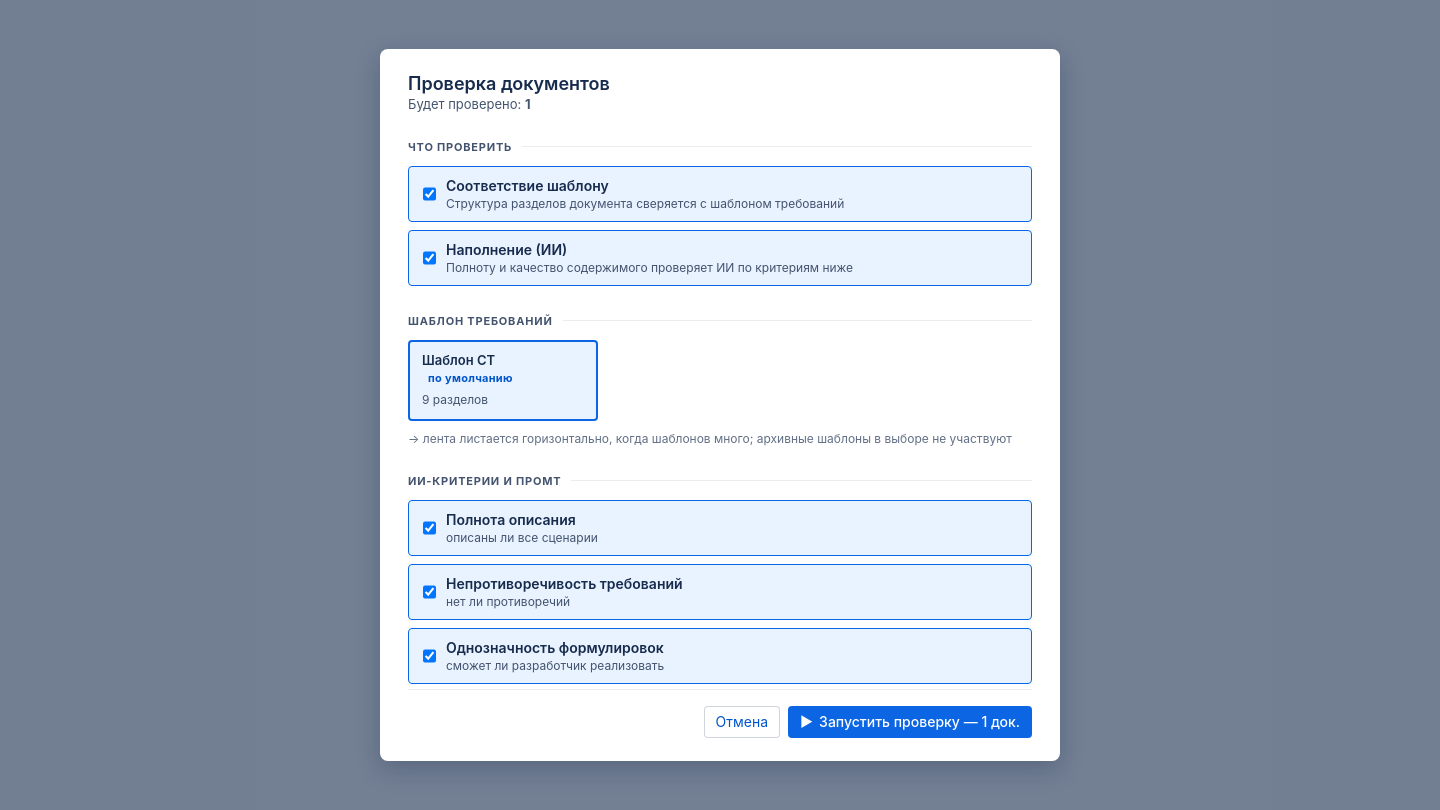
Test case: ValidationDialog: ИИ-критерии и замок промта › все ИИ-критерии сняты — запуск заблокирован с подсказкой
Step 1. Click the checkbox labelled "Полнота описания описаны ли все сценарии" → (430, 528), box [423,511,436,545]
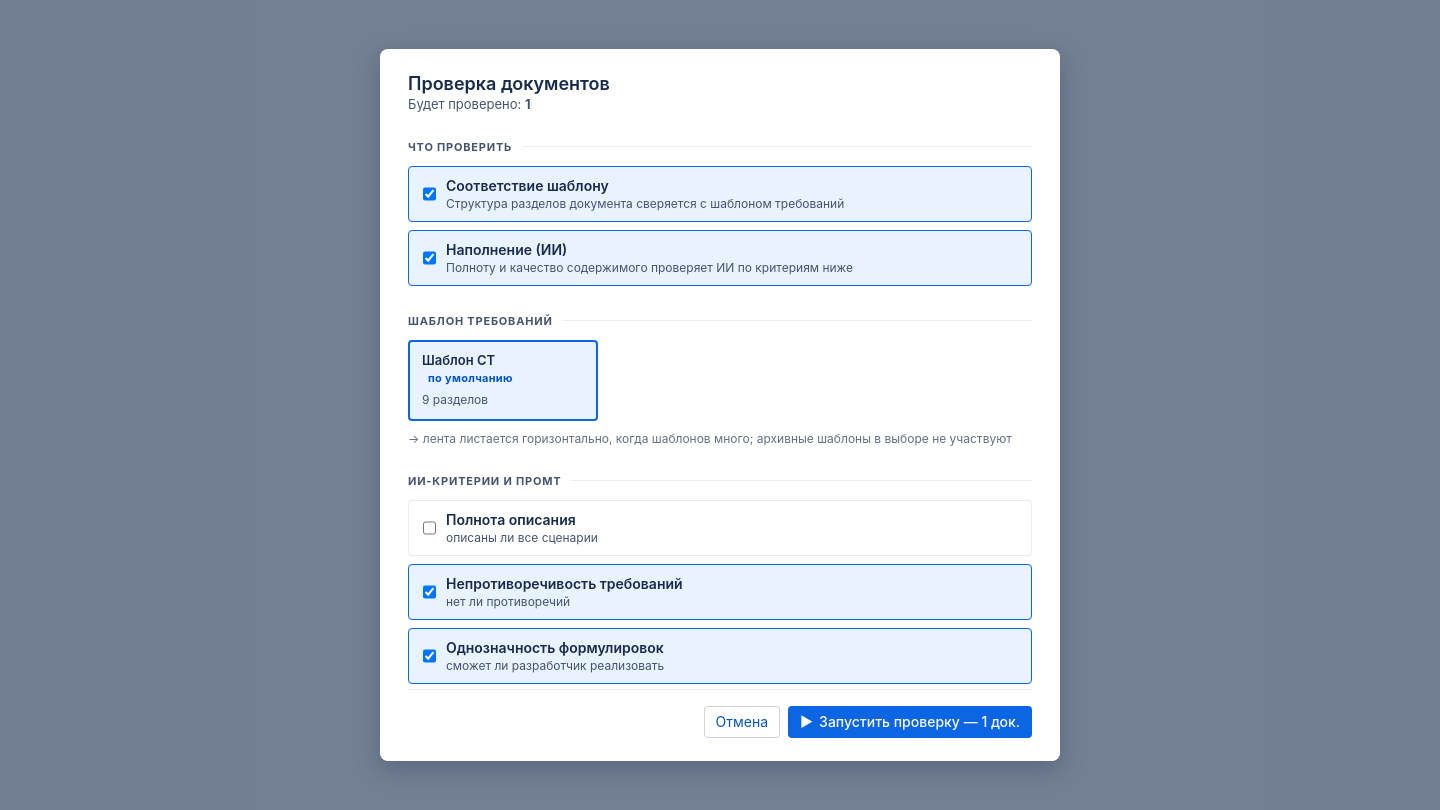
Step 2. Click the checkbox labelled "Непротиворечивость требований нет ли противоречий" → (430, 592), box [423,575,436,609]
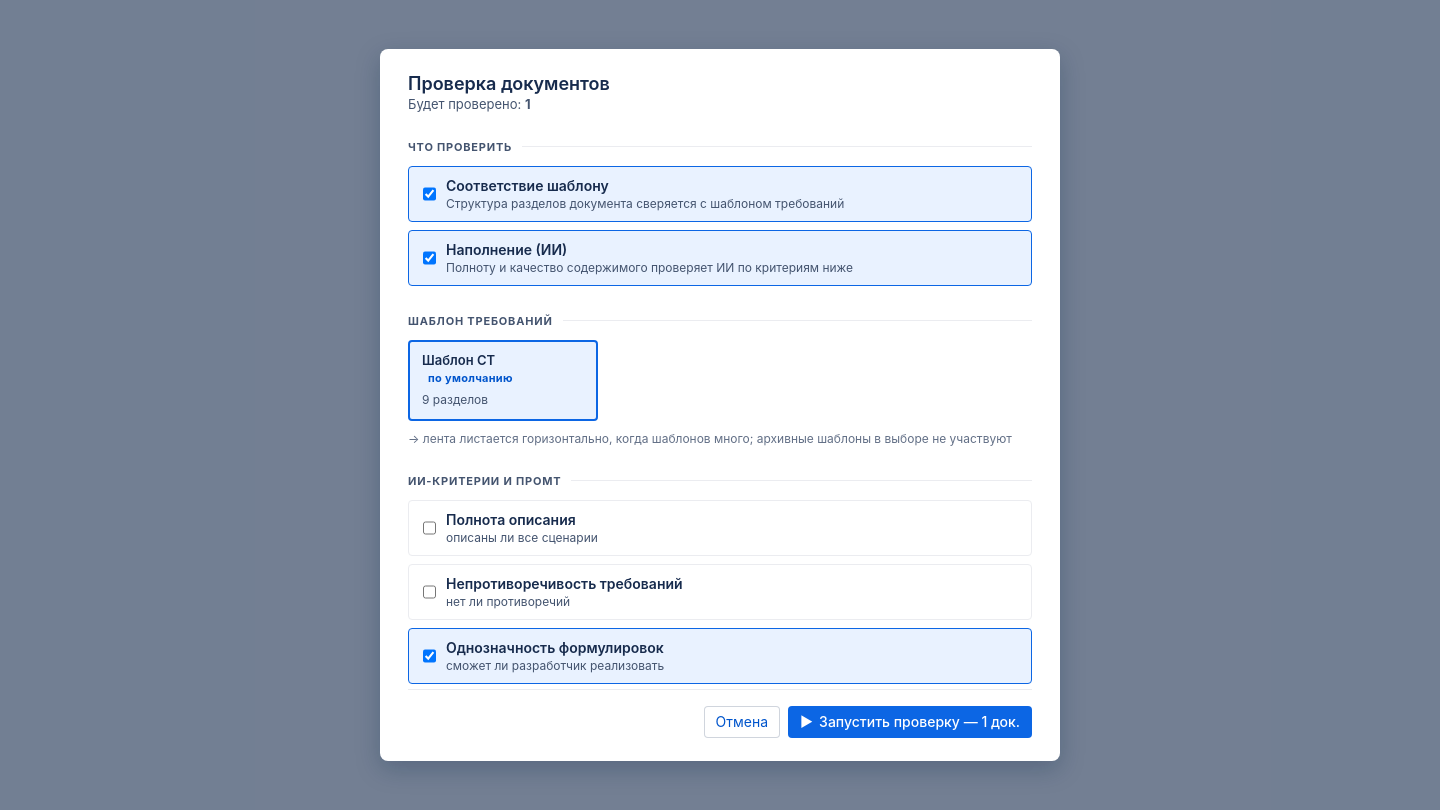
Step 3. Click the checkbox labelled "Однозначность формулировок сможет ли разработчик реализовать" → (430, 656), box [423,639,436,673]
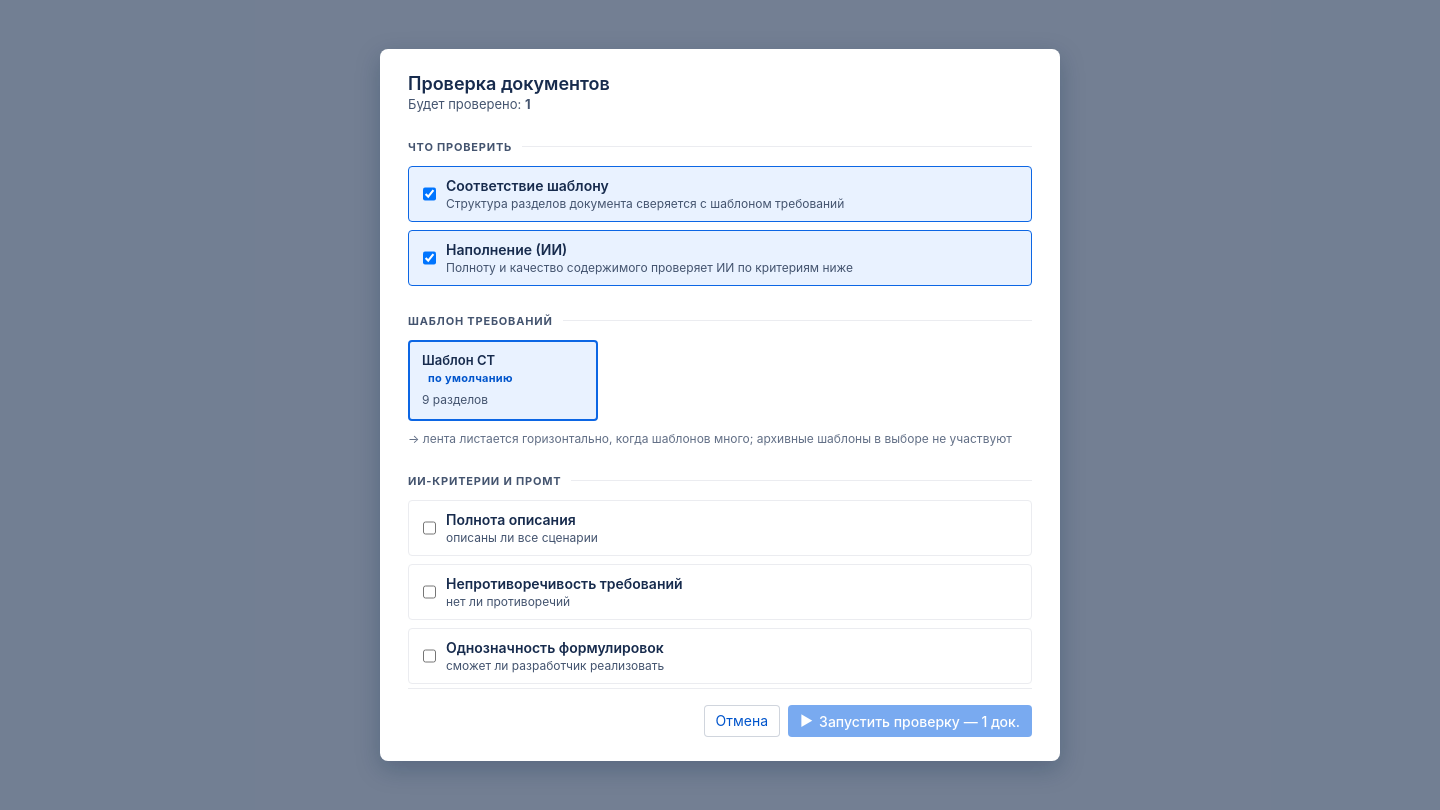
Expected: the text "Отметьте хотя бы один ИИ-критерий — иначе проверке не по чему оценивать документ" is shown, [408,692,1032,732]
Expected: the button "▶ Запустить проверку — 1 док." is disabled, [788,705,1032,737]
